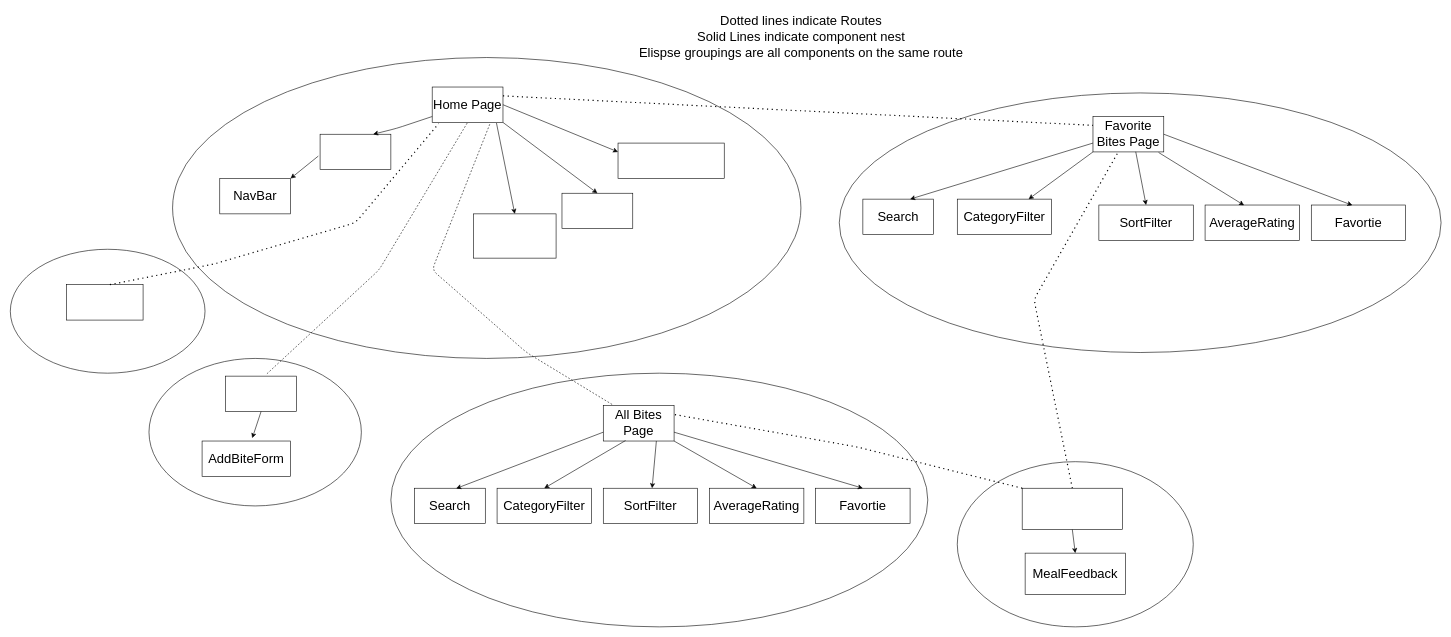
Some shapes in this 1451 by 637 pixel diagram are drawn without their labels. Each missing label, with the centre of its shape:
About Page: (104,302)
Add Bites Page: (260,394)
Bite: (597,211)
Header: (355,152)
MainContent: (514,235)
RecentBitesList: (670,160)
ShowcaseBite: (1072,509)
